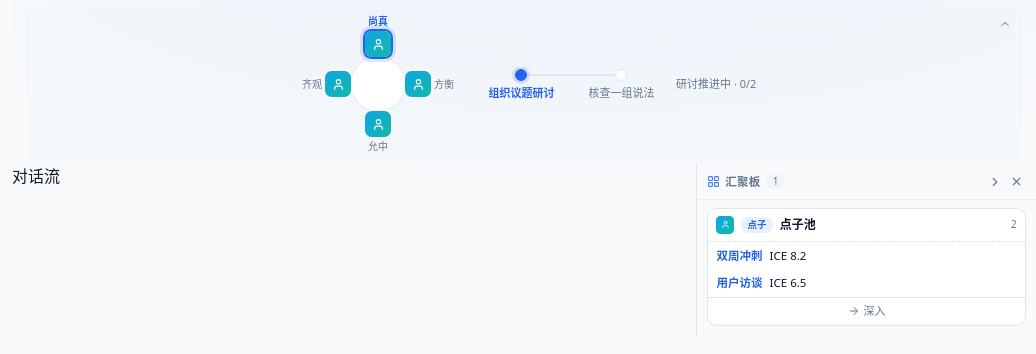
Test: M59 汇聚板收起（折叠 / 展开 / 关闭 / 恢复） › 折叠 → 窄条 rail（面板卸载）；展开归位；关闭 → 浮动恢复胶囊并可复位
The width and height of the screenshot is (1036, 354).
Expected: the element showing "汇聚板 1 点子 点子池 2 双周冲刺 ICE 8.2 用户访谈 ICE 6.5 深入" is shown, [696, 164, 1035, 337]
// 折叠：rail 出现（展开钮 + 竖标），面板内容随之卸载
Click the button titled "折叠汇聚板": (995, 182) [985, 172, 1005, 192]
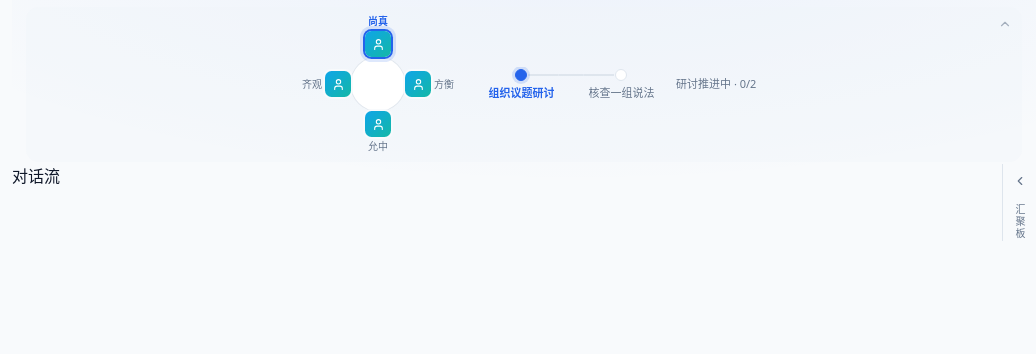
Expected: the element showing "汇聚板" is shown, [1002, 164, 1035, 241]
Now the button titled "展开汇聚板" is shown
Now the button "点子池" is gone
// 展开归位：卡墙回来、rail 退场
Click the button titled "展开汇聚板": (1020, 181) [1008, 170, 1030, 192]
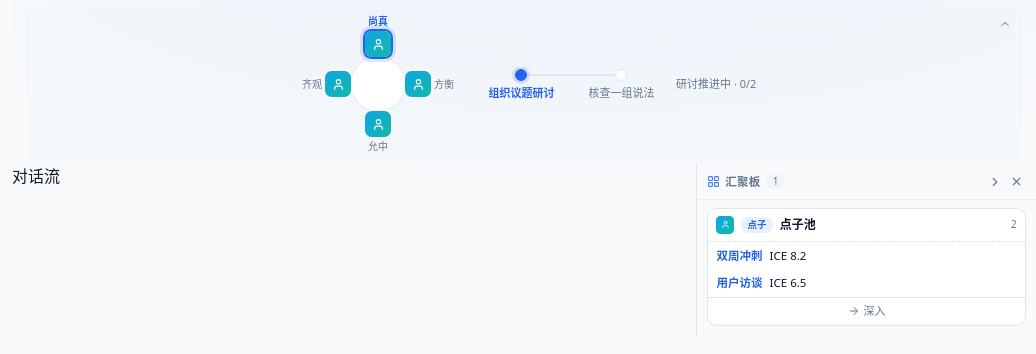
Now the text "点子池" is shown, box [780, 216, 816, 234]
// 关闭：aside 卸载、浮动恢复胶囊出现；点恢复归位
Click the button titled "关闭汇聚板": (1016, 182) [1006, 172, 1026, 192]
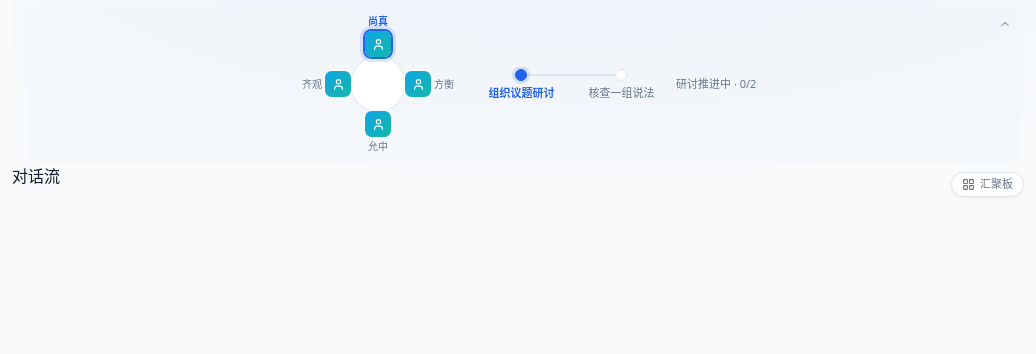
Click the button titled "显示汇聚板": (988, 184) [951, 172, 1024, 197]
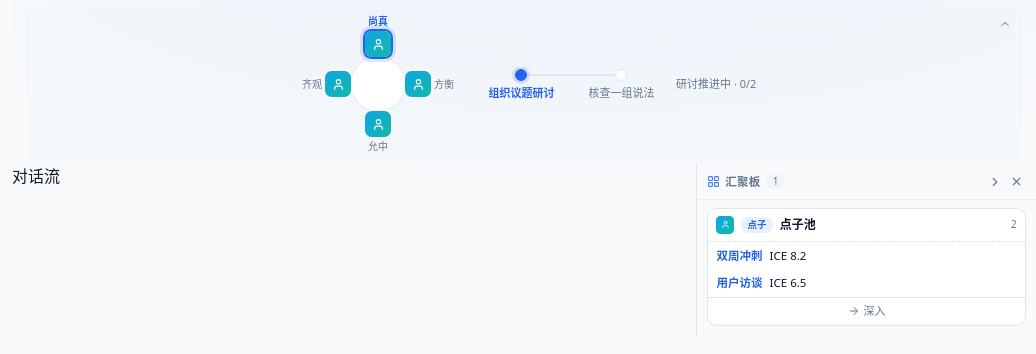
Now the element showing "汇聚板 1 点子 点子池 2 双周冲刺 ICE 8.2 用户访谈 ICE 6.5 深入" is shown, box [696, 164, 1035, 337]
